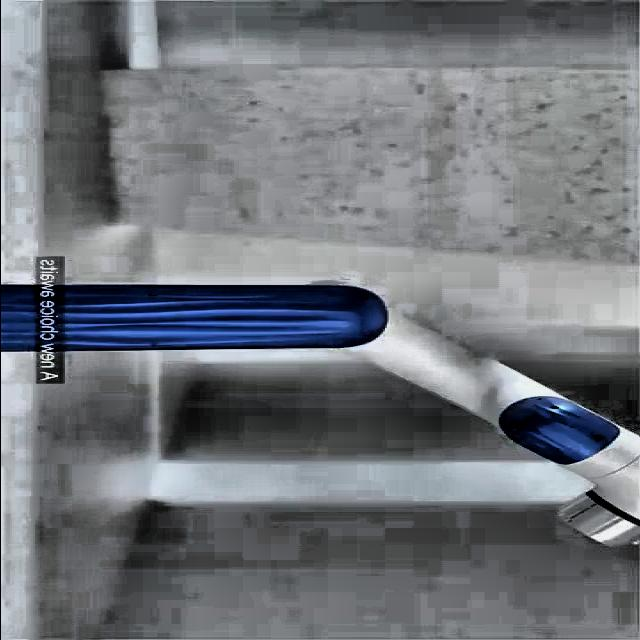robot: (4, 282, 640, 549)
